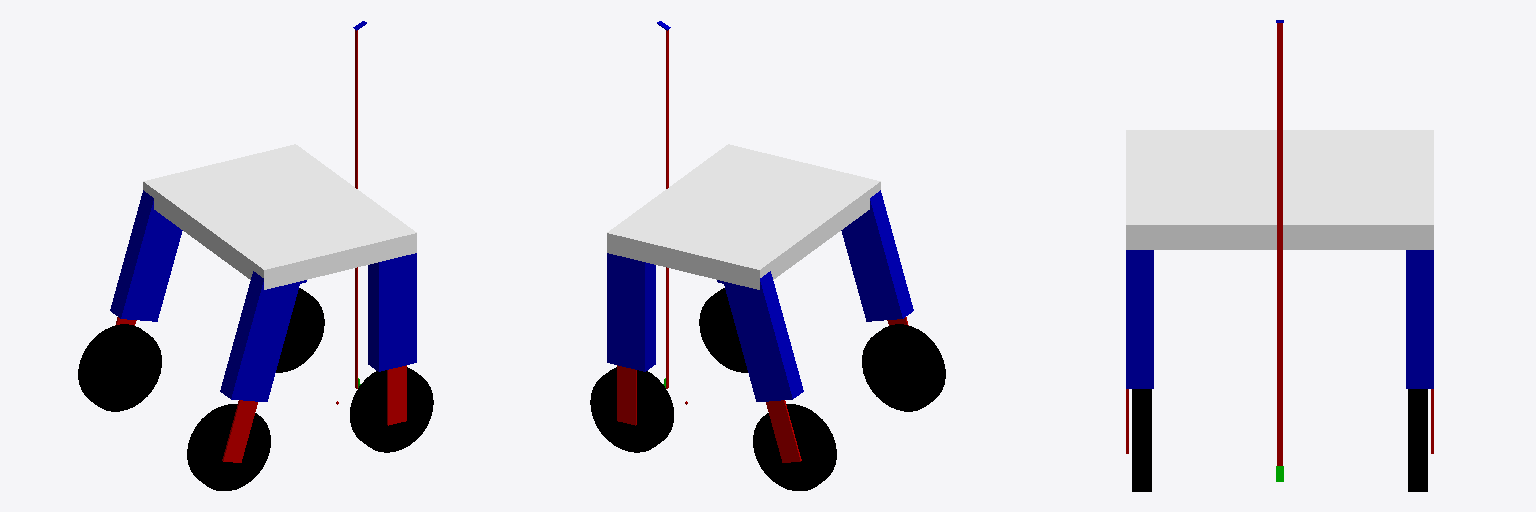
URDF robot description (soybot):
<?xml version="1.0"?>
<robot name="soybot">

  <material name="blue">
    <color rgba="0 0 0.8 1"/>
  </material>
  <material name="red">
    <color rgba="0.8 0 0 1"/>
  </material>
  <material name="black">
    <color rgba="0 0 0 1"/>
  </material>
  <material name="green">
    <color rgba="0 0.9 0 1"/>
  </material>
  <material name="white">
    <color rgba="1 1 1 1"/>
  </material>



  <link name="base_link">
    <visual>
      <geometry>
        <box size="0.01 0.01 0.01"/>
      </geometry>
      <origin rpy="0 0 0" xyz="0 0 0"/>
      <material name="red"/>
    </visual>
  </link>



  <link name="visual_link">
    <visual>
      <geometry>
        <box size="0.8 1.1 0.1"/>
      </geometry>
      <material name="white"/>
    </visual>
    <inertial>
            <mass value="1" />
            <origin xyz="0 0 0" rpy="0 0 0" />
            <!-- sphere = 2/5MR² diagonal-->
            <inertia ixx="0.01" ixy="0.0" ixz="0" iyy="0.01" iyz="0" izz="0.01" />
    </inertial>
  </link>
  <joint name="visual_link_joint" type="fixed">
    <parent link="base_link"/>
    <child link="visual_link"/>
    <origin rpy="0 0 0" xyz="-0.3 0.0 1.0"/>
  </joint>


  
  <link name="f_right_wheel_link">
    <visual>
      <geometry>
        <cylinder length="0.07" radius="0.200"/>
      </geometry>
      <origin rpy="1.57075 0 0" xyz="0 0 0"/>
      <material name="black"/>
    </visual>
    <collision>
      <geometry>
        <cylinder length="0.07" radius="0.20"/>
      </geometry>
      <origin rpy="1.57075 0 0" xyz="0 0 0"/>
    </collision>
    <inertial>
            <mass value="10" />
            <origin rpy="1.57075 0 0" xyz="0 0 0"/>
            <!-- Cylinder: ixx=iyy=1/12Mh²+1/4MR² izz = 1/2MR² -->
            <inertia ixx="0.01" ixy="0.0" ixz="0" iyy="0.01" iyz="0" izz="0.01" />
    </inertial>
  </link>
  
  <joint name="f_right_wheel" type="continuous">
    <parent link="fr_whl_sup_link"/>
    <child link="f_right_wheel_link"/>
    <axis xyz="0 1 0"/>
    <origin xyz="0 0.05 -0.1"/>
  </joint>
  
  <link name="f_left_wheel_link">
    <visual>
      <geometry>
        <cylinder length="0.07" radius="0.200"/>
      </geometry>
      <origin rpy="1.57075 0 0" xyz="0 0 0"/>
      <material name="black"/>
    </visual>
    <collision>
      <geometry>
        <cylinder length="0.07" radius="0.20"/>
      </geometry>
      <origin rpy="1.57075 0 0" xyz="0 0 0"/>
    </collision>
    <inertial>
            <mass value="10" />
            <origin rpy="1.57075 0 0" xyz="0 0 0"/>
            <!-- Cylinder: ixx=iyy=1/12Mh²+1/4MR² izz = 1/2MR² -->
            <inertia ixx="0.01" ixy="0.0" ixz="0" iyy="0.01" iyz="0" izz="0.01" />
    </inertial>
  </link>
  
  <joint name="f_left_wheel" type="continuous">
    <parent link="fl_whl_sup_link"/>
    <child link="f_left_wheel_link"/>
    <axis xyz="0 1 0"/>
    <origin xyz="0 -0.05 -0.1"/>
  </joint>


  <link name="b_right_wheel_link">
    <visual>
      <geometry>
        <cylinder length="0.07" radius="0.200"/>
      </geometry>
      <origin rpy="1.57075 0 0" xyz="0 0 0"/>
      <material name="black"/>
    </visual>
    <collision>
      <geometry>
        <cylinder length="0.07" radius="0.20"/>
      </geometry>
      <origin rpy="1.57075 0 0" xyz="0 0 0"/>
    </collision>
    <inertial>
            <mass value="10" />
            <origin rpy="1.57075 0 0" xyz="0 0 0"/>
            <!-- Cylinder: ixx=iyy=1/12Mh²+1/4MR² izz = 1/2MR² -->
            <inertia ixx="0.01" ixy="0.0" ixz="0" iyy="0.01" iyz="0" izz="0.01" />
    </inertial>
  </link>
  <joint name="b_right_wheel" type="fixed">
    <parent link="br_whl_sup_link"/>
    <child link="b_right_wheel_link"/>
    <axis xyz="0 1 0"/>
    <origin xyz="0 0.05 -0.1"/>
  </joint>
  
  
  <link name="b_left_wheel_link">
    <visual>
      <geometry>
        <cylinder length="0.07" radius="0.200"/>
      </geometry>
      <origin rpy="1.57075 0 0" xyz="0 0 0"/>
      <material name="black"/>
    </visual>
    <collision>
      <geometry>
        <cylinder length="0.07" radius="0.20"/>
      </geometry>
      <origin rpy="1.57075 0 0" xyz="0 0 0"/>
    </collision>
    <inertial>
            <mass value="10" />
            <origin rpy="1.57075 0 0" xyz="0 0 0"/>
            <!-- Cylinder: ixx=iyy=1/12Mh²+1/4MR² izz = 1/2MR² -->
            <inertia ixx="0.01" ixy="0.0" ixz="0" iyy="0.01" iyz="0" izz="0.01" />
    </inertial>
  </link>
  <joint name="b_left_wheel" type="fixed">
    <parent link="bl_whl_sup_link"/>
    <child link="b_left_wheel_link"/>
    <axis xyz="0 1 0"/>
    <origin xyz="0 -0.05 -0.1"/>
  </joint>


  
  <link name="servo_link">
    <visual>
      <geometry>
        <box size="0.02 1.80 0.005"/>
      </geometry>
      <origin rpy="0 0 0" xyz="0 0 0"/>
      <material name="red"/>
    </visual>
    <inertial>
            <mass value="0.25" />
            <origin xyz="0 0 0" rpy="0 0 0.005" />
            <inertia ixx="0.01" ixy="0.0" ixz="0" iyy="0.01" iyz="0" izz="0.01" />
    </inertial>
  </link>
  
  <joint name="servo" type="fixed">
    <axis xyz="0 -1 0"/>
    <limit effort="1000.0" lower="-1.57075" upper="1.57075" velocity="0.5"/>
    <parent link="base_link"/>
    <child link="servo_link"/>
    <origin rpy="1.57075 3.1415 1.57075" xyz="0.1 0 0.95"/>
  </joint>
  
  <joint name="camera_fixed" type="fixed">
    <parent link="servo_link"/>
    <child link="camera_link"/>
    <origin rpy="-1.18 0 0" xyz="0 -0.91 0.02"/>
  </joint>
  
  <joint name="camera_fixed2" type="fixed">
    <parent link="servo_link"/>
    <child link="camera_link2"/>
    <origin rpy=" 0.1 0 0" xyz="0 0.88 0.01"/>
  </joint>
  
  <link name="camera_link">
  <visual>
      <geometry>
        <box size="0.03 0.06 0.005"/>
      </geometry>
      <origin rpy="0 0 0" xyz="0 0 0"/>
      <material name="blue"/>
    </visual>
  </link>
  
  <link name="camera_link2">
  <visual>
      <geometry>
        <box size="0.03 0.06 0.005"/>
      </geometry>
      <origin rpy="0 0 0" xyz="0 0 0"/>
      <material name="green"/>
    </visual>
  </link>


  
  <link name="fr_leg_link">
    <visual>
      <geometry>
        <box size="0.200 0.100 0.6"/>
      </geometry>
      <origin rpy="0 0 0" xyz="0 0 0"/>
      <material name="blue"/>
    </visual>
    <inertial>
            <mass value="10" />
            <origin xyz="0 0 0" rpy="0 0 0" />
            <!-- sphere = 2/5MR² diagonal-->
            <inertia ixx="0.01" ixy="0.0" ixz="0" iyy="0.01" iyz="0" izz="0.01" />
    </inertial>
  </link>
  <joint name="fr_joint" type="fixed">
    <parent link="base_link"/>
    <child link="fr_leg_link"/>
    <origin rpy="0 0 0" xyz="-0.001 -0.499 0.7"/>
  </joint>


  
  <link name="fl_leg_link">
    <visual>
      <geometry>
        <box size="0.200 0.100 0.6"/>
      </geometry>
      <origin rpy="0 0 0" xyz="0 0 0"/>
      <material name="blue"/>
    </visual>
    <inertial>
            <mass value="10" />
            <origin xyz="0 0 0" rpy="0 0 0" />
            <!-- sphere = 2/5MR² diagonal-->
            <inertia ixx="0.01" ixy="0.0" ixz="0" iyy="0.01" iyz="0.0" izz="0.01" />
    </inertial>
  </link>
  <joint name="fl_joint" type="fixed">
    <parent link="base_link"/>
    <child link="fl_leg_link"/>
    <origin rpy="0 0 0" xyz="-0.001 0.499 0.7"/>
  </joint>



  <link name="br_leg_link">
    <visual>
      <geometry>
        <box size="0.200 0.100 0.6"/>
      </geometry>
      <origin rpy="0 0 0" xyz="0 0 0"/>
      <material name="blue"/>
    </visual>
    <collision>
      <geometry>
        <box size="0.200 0.100 1"/>
      </geometry>
      <origin rpy="0 0 0" xyz="0 0 0"/>
    </collision>
    <inertial>
            <mass value="10" />
            <origin xyz="0 0 0" rpy="0 0 0" />
            <!-- sphere = 2/5MR² diagonal-->
            <inertia ixx="0.01" ixy="0.0" ixz="0.0" iyy="0.01" iyz="0.0" izz="0.01" />
    </inertial>
  </link>
  <joint name="br_joint" type="fixed">
    <parent link="base_link"/>
    <child link="br_leg_link"/>
    <origin rpy="0 0.3 0" xyz="-0.69 -0.499 0.7"/>
  </joint>



  <link name="bl_leg_link">
    <visual>
      <geometry>
        <box size="0.200 0.100 0.6"/>
      </geometry>
      <origin rpy="0 0 0" xyz="0 0 0"/>
      <material name="blue"/>
    </visual>
    <collision>
      <geometry>
        <box size="0.200 0.100 1"/>
      </geometry>
      <origin rpy="0 0 0" xyz="0 0 0"/>
    </collision>
    <inertial>
            <mass value="10" />
            <origin xyz="0 0 0" rpy="0 0 0" />
            <!-- sphere = 2/5MR² diagonal-->
            <inertia ixx="0.01" ixy="0.0" ixz="0" iyy="0.01" iyz="0" izz="0.01" />
    </inertial>
  </link>
  <joint name="bl_joint" type="fixed">
    <parent link="base_link"/>
    <child link="bl_leg_link"/>
    <origin rpy="0 0.3 0" xyz="-0.69 0.499 0.7"/>
  </joint>



  <link name="fr_whl_sup_link">
    <visual>
      <geometry>
        <box size="0.100 0.01 0.3"/>
      </geometry>
      <origin rpy="0 0 0" xyz="0 0 0"/>
      <material name="red"/>
    </visual>
    <inertial>
            <mass value="2" />
            <origin xyz="0 0 0" rpy="0 0 0" />
            <!-- sphere = 2/5MR² diagonal-->
            <inertia ixx="0.01" ixy="0.0" ixz="0" iyy="0.01" iyz="0" izz="0.01" />
    </inertial>
  </link>
  <joint name="fr_whl_sup_joint" type="fixed">
    <parent link="fr_leg_link"/>
    <child link="fr_whl_sup_link"/>
    <origin rpy="0 0 0" xyz=" 0 -0.0449 -0.43"/>
  </joint>



  <link name="fl_whl_sup_link">
    <visual>
      <geometry>
        <box size="0.100 0.01 0.3"/>
      </geometry>
      <origin rpy="0 0 0" xyz="0 0 0"/>
      <material name="red"/>
    </visual>
    <inertial>
            <mass value="2" />
            <origin xyz="0 0 0" rpy="0 0 0" />
            <!-- sphere = 2/5MR² diagonal-->
            <inertia ixx="0.01" ixy="0.0" ixz="0" iyy="0.01" iyz="0" izz="0.01" />
    </inertial>
  </link>
  <joint name="fl_whl_sup_joint" type="fixed">
    <parent link="fl_leg_link"/>
    <child link="fl_whl_sup_link"/>
    <origin rpy="0 0 0" xyz=" 0 0.0449 -0.43"/>
  </joint>


  <link name="br_whl_sup_link">
    <visual>
      <geometry>
        <box size="0.100 0.01 0.3"/>
      </geometry>
      <origin rpy="0 0 0" xyz="0 0 0"/>
      <material name="red"/>
    </visual>
    <inertial>
            <mass value="2" />
            <origin xyz="0 0 0" rpy="0 0 0" />
            <!-- sphere = 2/5MR² diagonal-->
            <inertia ixx="0.01" ixy="0.0" ixz="0" iyy="0.01" iyz="0" izz="0.01" />
    </inertial>
  </link>
  <joint name="br_whl_sup_joint" type="fixed">
    <parent link="br_leg_link"/>
    <child link="br_whl_sup_link"/>
	<axis xyz="0 0 1"/>
    <origin rpy="0 0 0" xyz=" 0 -0.045 -0.45"/>
  </joint>
  
  
  <link name="bl_whl_sup_link">
    <visual>
      <geometry>
        <box size="0.100 0.01 0.3"/>
      </geometry>
      <origin rpy="0 0 0" xyz="0 0 0"/>
      <material name="red"/>
    </visual>
    <inertial>
            <mass value="2" />
            <origin xyz="0 0 0" rpy="0 0 0" />
            <!-- sphere = 2/5MR² diagonal-->
            <inertia ixx="0.01" ixy="0.0" ixz="0" iyy="0.01" iyz="0" izz="0.01" />
    </inertial>
  </link>
  <joint name="bl_whl_sup_joint" type="fixed">
    <parent link="bl_leg_link"/>
    <child link="bl_whl_sup_link"/>
	<axis xyz="0 0 1"/>
    <origin rpy="0 0 0" xyz=" 0 0.045 -0.45"/>
  </joint>


  <!-- Transmission-->
  <transmission name="rwheel_trans">
    <type>transmission_interface/SimpleTransmission</type>
    <actuator name="$rwheel_motor">
      <mechanicalReduction>1</mechanicalReduction>
    </actuator>
    <joint name="f_right_wheel">
      <hardwareInterface>hardware_interface/VelocityJointInterface</hardwareInterface>
    </joint>
  </transmission>
  
  <transmission name="lwheel_trans">
    <type>transmission_interface/SimpleTransmission</type>
    <actuator name="$lwheel_motor">
      <mechanicalReduction>1</mechanicalReduction>
    </actuator>
    <joint name="f_left_wheel">
      <hardwareInterface>hardware_interface/VelocityJointInterface</hardwareInterface>
    </joint>
  </transmission>

  
  <!-- Gazebo plugin-->
  <gazebo>
    <plugin name="gazebo_ros_control" filename="libgazebo_ros_control.so">
      <robotNamespace></robotNamespace>
      <frameId>base_link</frameId>
      <legacyModeNS>false</legacyModeNS>
      <updateRate>50</updateRate>
    </plugin>
  </gazebo>
  
  <gazebo reference="base_link">
    <material>Gazebo/Red</material>
  </gazebo>


  <gazebo reference="fl_leg_link">
    <material>Gazebo/Blue</material>
  </gazebo>

  <gazebo reference="fr_leg_link">
    <material>Gazebo/Blue</material>
  </gazebo>
  
  <gazebo reference="bl_leg_link">
    <material>Gazebo/Blue</material>
  </gazebo>
  
  <gazebo reference="br_leg_link">
    <material>Gazebo/Blue</material>
  </gazebo>


  <gazebo reference="fl_whl_sup_link">
    <material>Gazebo/Red</material>
  </gazebo>

  <gazebo reference="fr_whl_sup_link">
    <material>Gazebo/Red</material>
  </gazebo>
  
  <gazebo reference="bl_whl_sup_link">
    <material>Gazebo/Red</material>
  </gazebo>

  <gazebo reference="br_whl_sup_link">
    <material>Gazebo/Red</material>
  </gazebo>
  
  <gazebo reference="visual_link">
    <material>Gazebo/White</material>
  </gazebo>


  <gazebo reference="f_left_wheel_link">
    <material>Gazebo/Grey</material>
    <mu1>1.16</mu1>
    <mu2>1.16</mu2>
  </gazebo>
  
  <gazebo reference="f_right_wheel_link">
    <material>Gazebo/Grey</material>
    <mu1>1.16</mu1>
    <mu2>1.16</mu2>
  </gazebo>


  <gazebo reference="b_left_wheel_link">
    <material>Gazebo/Grey</material>
    <mu1>0</mu1>
    <mu2>0</mu2>
  </gazebo>
  
  <gazebo reference="b_right_wheel_link">
    <material>Gazebo/Grey</material>
    <mu1>0</mu1>
    <mu2>0</mu2>
  </gazebo>
  

  <gazebo reference="camera_link">
    <material>Gazebo/Blue</material>
  </gazebo>
  
  <gazebo reference="camera_link2">
    <material>Gazebo/Green</material>
  </gazebo>
  
  <gazebo reference="servo_link">
    <material>Gazebo/Red</material>
  </gazebo>
  
    <!-- camera -->
  <gazebo reference="camera_link">
    <sensor type="camera" name="camera1">
      <update_rate>30.0</update_rate>
      <camera name="head">
        <pose >0 0 0 1.57075 -1.57075 0 </pose>
        <horizontal_fov>0.72</horizontal_fov>
        <image>
          <width>640</width>
          <height>480</height>
          <format>R8G8B8</format>
        </image>
        <clip>
          <near>0.02</near>
          <far>300</far>
        </clip>
        <noise>
          <type>gaussian</type>
          <!-- Noise is sampled independently per pixel on each frame.
               That pixel's noise value is added to each of its color
               channels, which at that point lie in the range [0,1]. -->
          <mean>0.0</mean>
          <stddev>0.007</stddev>
        </noise>
      </camera>
      <plugin name="camera_controller" filename="libgazebo_ros_camera.so">
      	<!--robotNamespace></robotNamespace-->
        <alwaysOn>true</alwaysOn>
        <updateRate>30.0</updateRate>
        <cameraName>nav_front</cameraName>
        <imageTopicName>image_raw</imageTopicName>
        <cameraInfoTopicName>camera_info</cameraInfoTopicName>
        <frameName>camera_link</frameName>
        <hackBaseline>0.0</hackBaseline>
      </plugin>
    </sensor>
  </gazebo>
  
  <!-- camera2 -->
  <gazebo reference="camera_link2">
    <sensor type="camera" name="camera1">
      <update_rate>30.0</update_rate>
      <camera name="head">
        <pose >0 0 0 1.57075 -1.57075 0 </pose>
        <horizontal_fov>0.80</horizontal_fov>
        <image>
          <width>640</width>
          <height>480</height>
          <format>R8G8B8</format>
        </image>
        <clip>
          <near>0.02</near>
          <far>100</far>
        </clip>
        <!--distortion>
            <k1>-0.25</k1>
            <k2>0.12</k2>
            <k3>0.0</k3>
            <p1>-0.00028</p1>
            <p2>-0.00005</p2>
            <center>0.5 0.5</center>
          </distortion-->
        <noise>
          <type>gaussian</type>
          <!-- Noise is sampled independently per pixel on each frame.
               That pixel's noise value is added to each of its color
               channels, which at that point lie in the range [0,1]. -->
          <mean>0.0</mean>
          <stddev>0.007</stddev>
        </noise>
      </camera>
      <plugin name="camera_controller2" filename="libgazebo_ros_camera.so">
      	<!--robotNamespace></robotNamespace-->
        <alwaysOn>true</alwaysOn>
        <updateRate>30.0</updateRate>
        <cameraName>soybot/left_camera1</cameraName>
        <imageTopicName>image_raw</imageTopicName>
        <cameraInfoTopicName>camera_info2</cameraInfoTopicName>
        <frameName>camera_link2</frameName>
        <hackBaseline>0.0</hackBaseline>
      </plugin>
    </sensor>
  </gazebo>  
</robot>

--- Render facts (derived) ---
3 views of the same robot in one strip: view 1: azimuth 30°, elevation 25°; view 2: azimuth 150°, elevation 25°; view 3: azimuth 270°, elevation 25° (orthographic).
Robot: soybot — 17 links, 16 joints (2 continuous, 14 fixed); root link base_link; default pose: every joint at zero.
Links seen in each view (by area): view 1: visual_link, br_leg_link, b_left_wheel_link, bl_leg_link, fr_leg_link, b_right_wheel_link, f_right_wheel_link, f_left_wheel_link, br_whl_sup_link, fr_whl_sup_link, servo_link; view 2: visual_link, bl_leg_link, b_right_wheel_link, br_leg_link, fl_leg_link, b_left_wheel_link, f_left_wheel_link, f_right_wheel_link, bl_whl_sup_link, fl_whl_sup_link, servo_link; view 3: visual_link, fr_leg_link, fl_leg_link, servo_link, f_right_wheel_link, f_left_wheel_link.
Link boxes in pixels (left/top/right/bottom): visual_link: left=143, top=144, right=416, bottom=289; br_leg_link: left=220, top=271, right=300, bottom=401; b_left_wheel_link: left=78, top=324, right=161, bottom=411; bl_leg_link: left=110, top=190, right=182, bottom=321; fr_leg_link: left=368, top=253, right=416, bottom=371; b_right_wheel_link: left=187, top=404, right=270, bottom=490; f_right_wheel_link: left=350, top=367, right=433, bottom=452; f_left_wheel_link: left=276, top=288, right=324, bottom=372; br_whl_sup_link: left=222, top=400, right=257, bottom=462; fr_whl_sup_link: left=387, top=365, right=406, bottom=425; servo_link: left=355, top=30, right=357, bottom=388; visual_link: left=607, top=144, right=880, bottom=289; bl_leg_link: left=723, top=271, right=803, bottom=401; b_right_wheel_link: left=862, top=324, right=945, bottom=411; br_leg_link: left=841, top=190, right=913, bottom=321; fl_leg_link: left=607, top=253, right=655, bottom=371; b_left_wheel_link: left=753, top=404, right=836, bottom=490; f_left_wheel_link: left=590, top=367, right=673, bottom=452; f_right_wheel_link: left=699, top=288, right=747, bottom=372; bl_whl_sup_link: left=766, top=400, right=801, bottom=462; fl_whl_sup_link: left=617, top=365, right=636, bottom=425; servo_link: left=666, top=30, right=668, bottom=388; visual_link: left=1126, top=130, right=1433, bottom=249; fr_leg_link: left=1126, top=250, right=1153, bottom=388; fl_leg_link: left=1406, top=250, right=1433, bottom=388; servo_link: left=1277, top=23, right=1282, bottom=465; f_right_wheel_link: left=1132, top=389, right=1151, bottom=491; f_left_wheel_link: left=1408, top=389, right=1427, bottom=491.
Size in the robot's own frame: 1.25 by 1.1 by 1.9 metres.
Geometry: primitives only (box / cylinder / sphere), no mesh files.